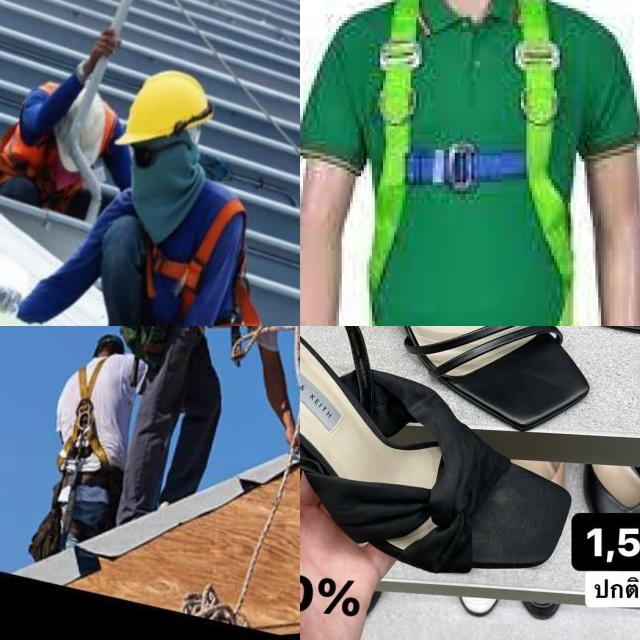Harness: (365, 0, 575, 326), (149, 194, 263, 326), (57, 358, 110, 473)
Sandals: (300, 326, 596, 594), (300, 326, 611, 456)
